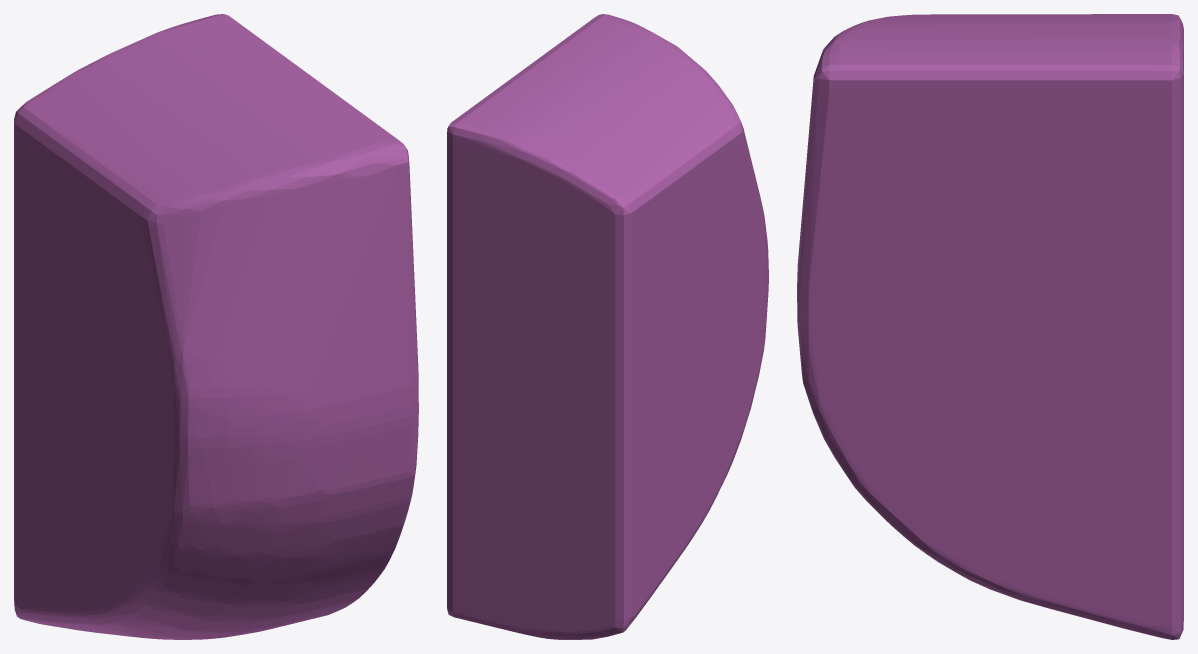
The model's file is left_f_distal_pst_part_7.obj.
3 views of the same model, side by side, from view 1: azimuth 30°, elevation 25°; view 2: azimuth 150°, elevation 25°; view 3: azimuth 270°, elevation 25° (orthographic). The views are drawn at different scales.
Size of the model in its own units: 4.49 by 11.51 by 7.03.
